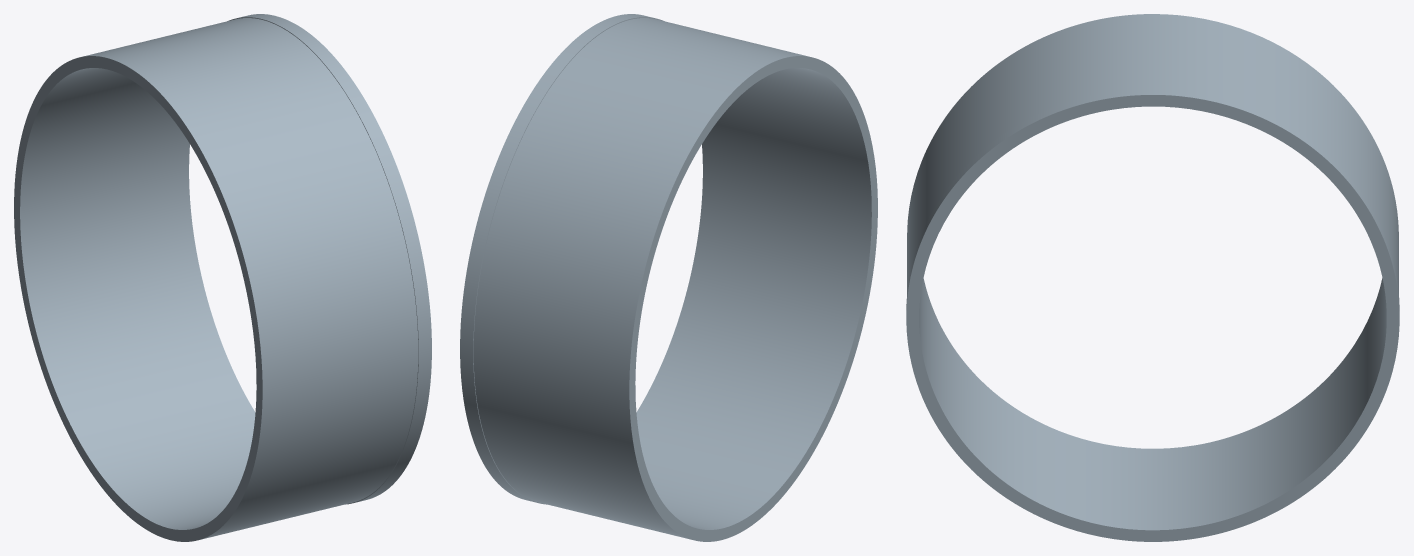
Rendered from bypass-inner-fairing.glb.
3 renders of one model, left to right at view 1: azimuth 30°, elevation 25°; view 2: azimuth 150°, elevation 25°; view 3: azimuth 270°, elevation 25°, orthographic.
Parts seen in each view (by area): view 1: bypass-inner-fairing - steel; view 2: bypass-inner-fairing - steel; view 3: bypass-inner-fairing - steel.
Boxes of the visible parts, x1,y1,x2,y2 form: bypass-inner-fairing - steel: [14, 14, 431, 541]; bypass-inner-fairing - steel: [460, 14, 877, 541]; bypass-inner-fairing - steel: [906, 14, 1399, 541].
Bounding box in the file's own units: 0.51 × 1.3 × 1.3.
